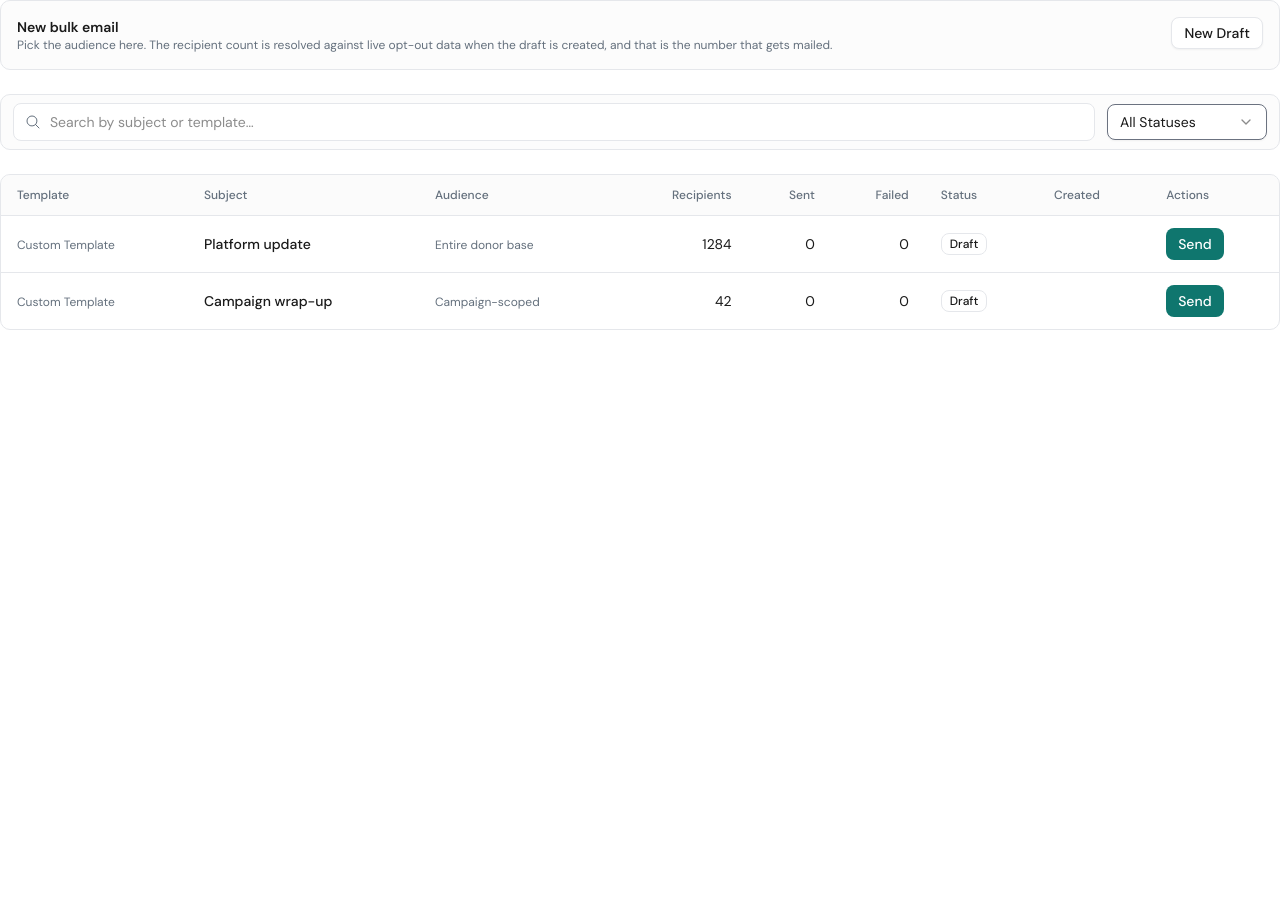
Test: un-scoped send is gated on an explicit confirmation › states the real number of people and blocks the send until ticked
Expected: the text "Platform update" is shown, [188,216,419,272]
Click the button "Send" in the row of "Platform update" at (1195, 244), box [1166,228,1224,260]
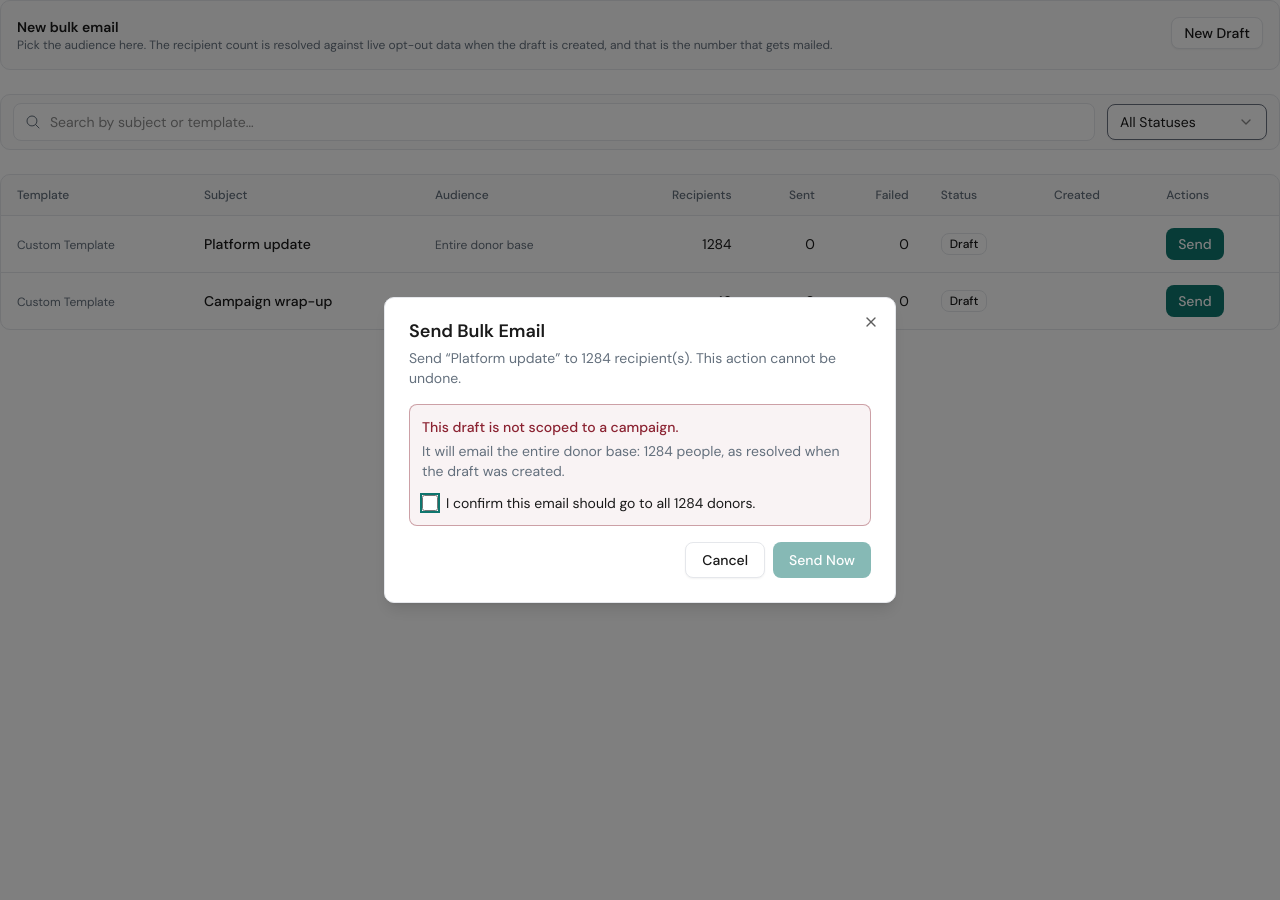
Now the heading "Send Bulk Email" is shown, box [409,319,545,343]
Now the text "to 1284 recipient(s)" is shown, box [409,348,871,388]
Now the text "entire donor base: 1284 people" is shown, box [422,441,858,481]
Click the button "Send Now" at (822, 560), box [773,542,871,578]
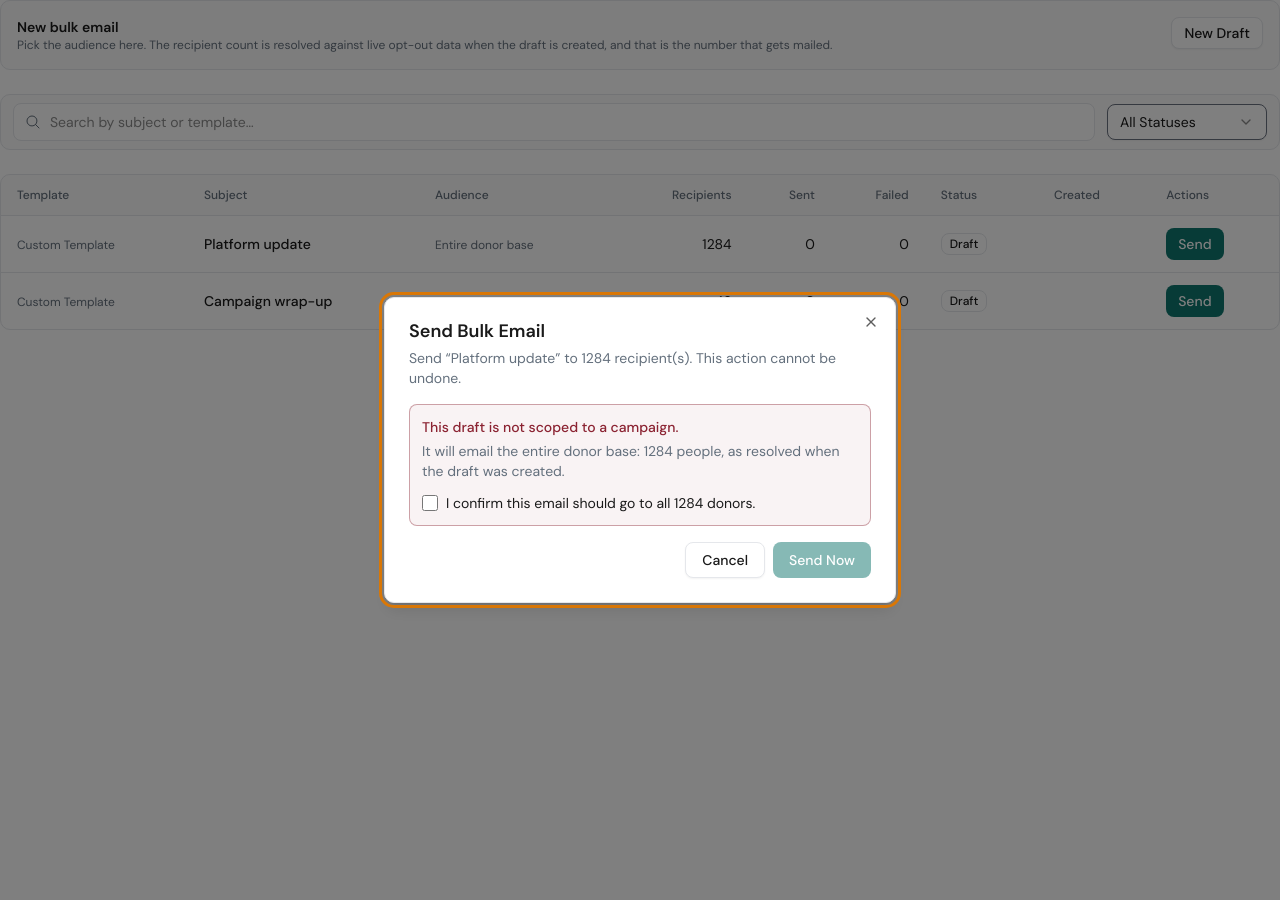
Click the checkbox labelled "I confirm this email should go to all 1284 donors." at (430, 503), box [422,495,438,511]
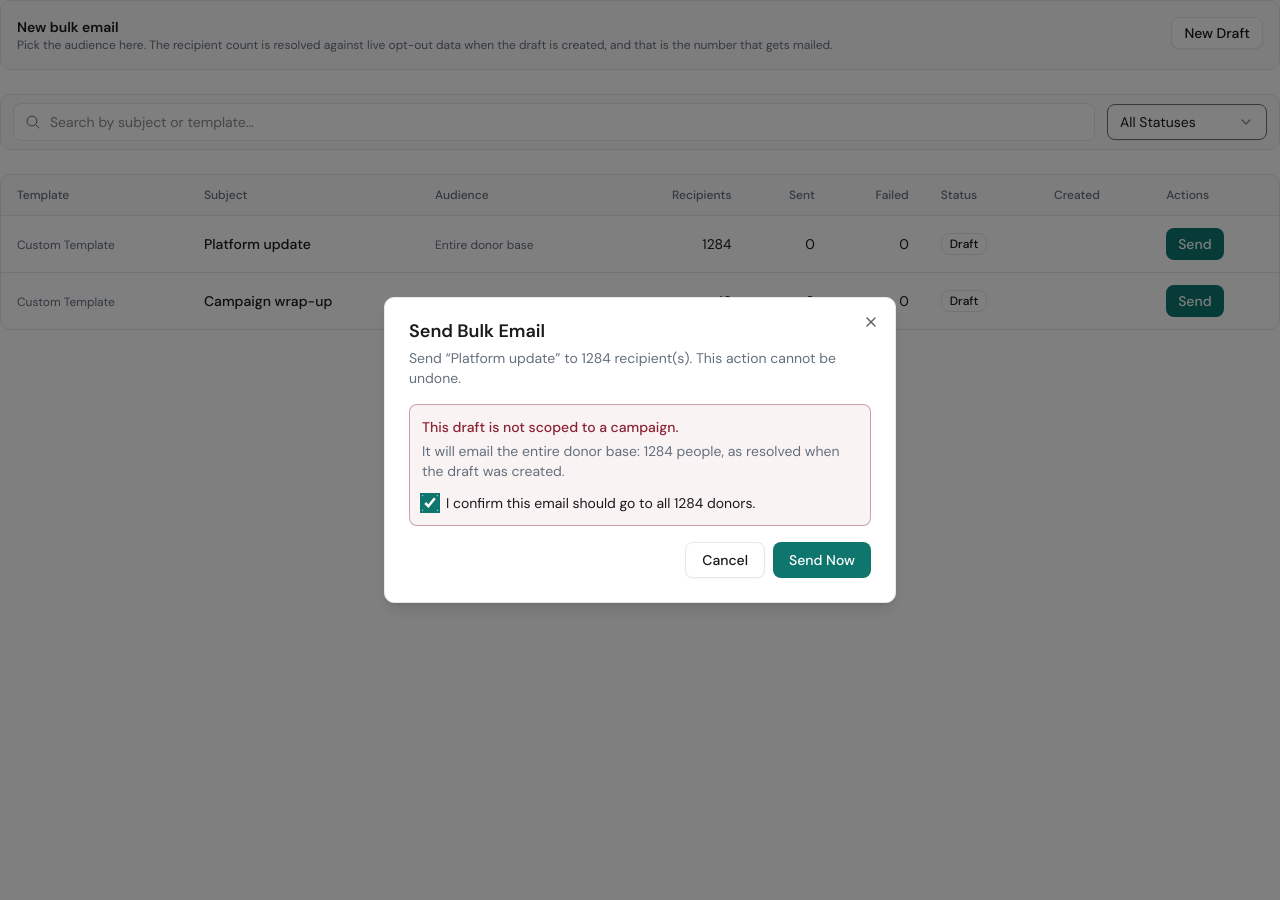
Now the button "Send Now" is enabled, box [773,542,871,578]
